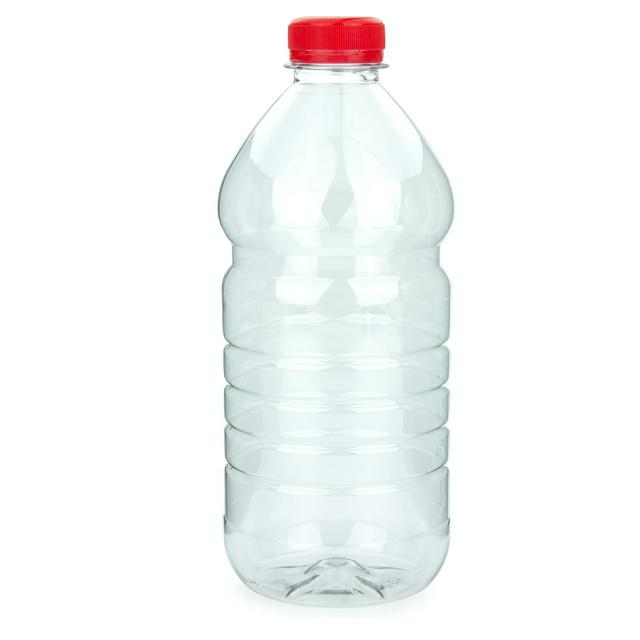bottle: (219, 18, 452, 606)
